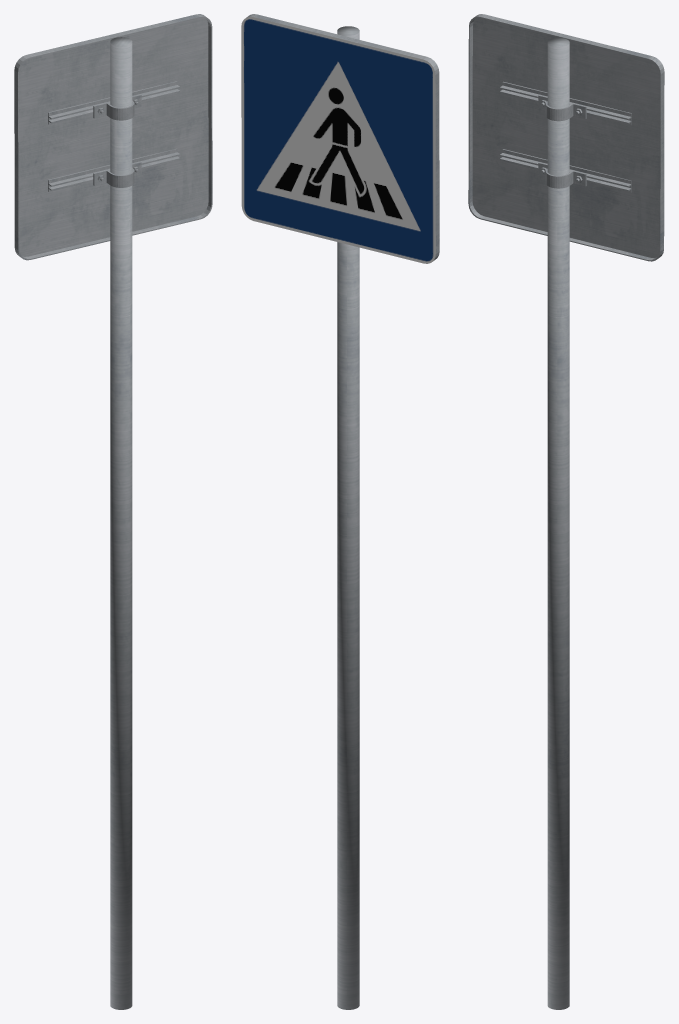
Rendered from Crosswalk_v2.fbx.
3 renders of one model, left to right at view 1: azimuth 30°, elevation 25°; view 2: azimuth 150°, elevation 25°; view 3: azimuth 330°, elevation 25°, orthographic.
Visible parts, largest first — view 1: Crosswalk v2; view 2: Crosswalk v2; view 3: Crosswalk v2.
Boxes of the visible parts, x1,y1,x2,y2 form: Crosswalk v2: (14, 14, 212, 1009); Crosswalk v2: (241, 14, 439, 1009); Crosswalk v2: (468, 14, 664, 1009).
Size of the model in its own units: 0.091 by 0.6002 by 2.86.
